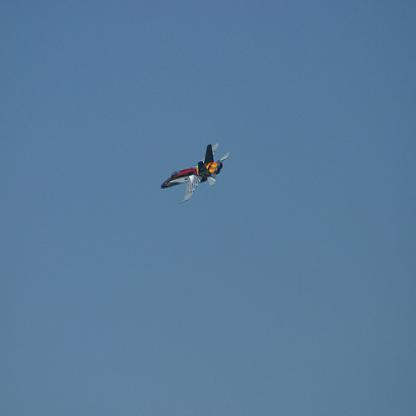aeroplane: (160, 141, 230, 204)
